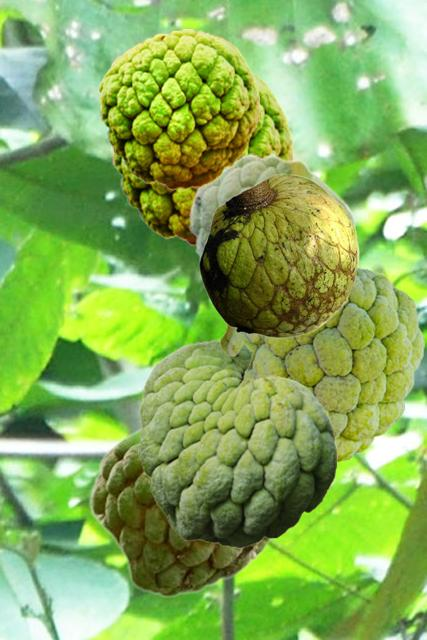atis: (138, 339, 336, 547), (218, 266, 423, 461), (110, 72, 291, 245), (87, 428, 272, 597), (198, 173, 358, 337), (98, 27, 258, 189), (188, 153, 356, 260)
